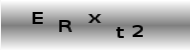2: (130, 24, 144, 38)
E: (30, 10, 45, 25)
R: (57, 19, 73, 33)
t: (114, 26, 126, 39)
x: (88, 12, 104, 24)
